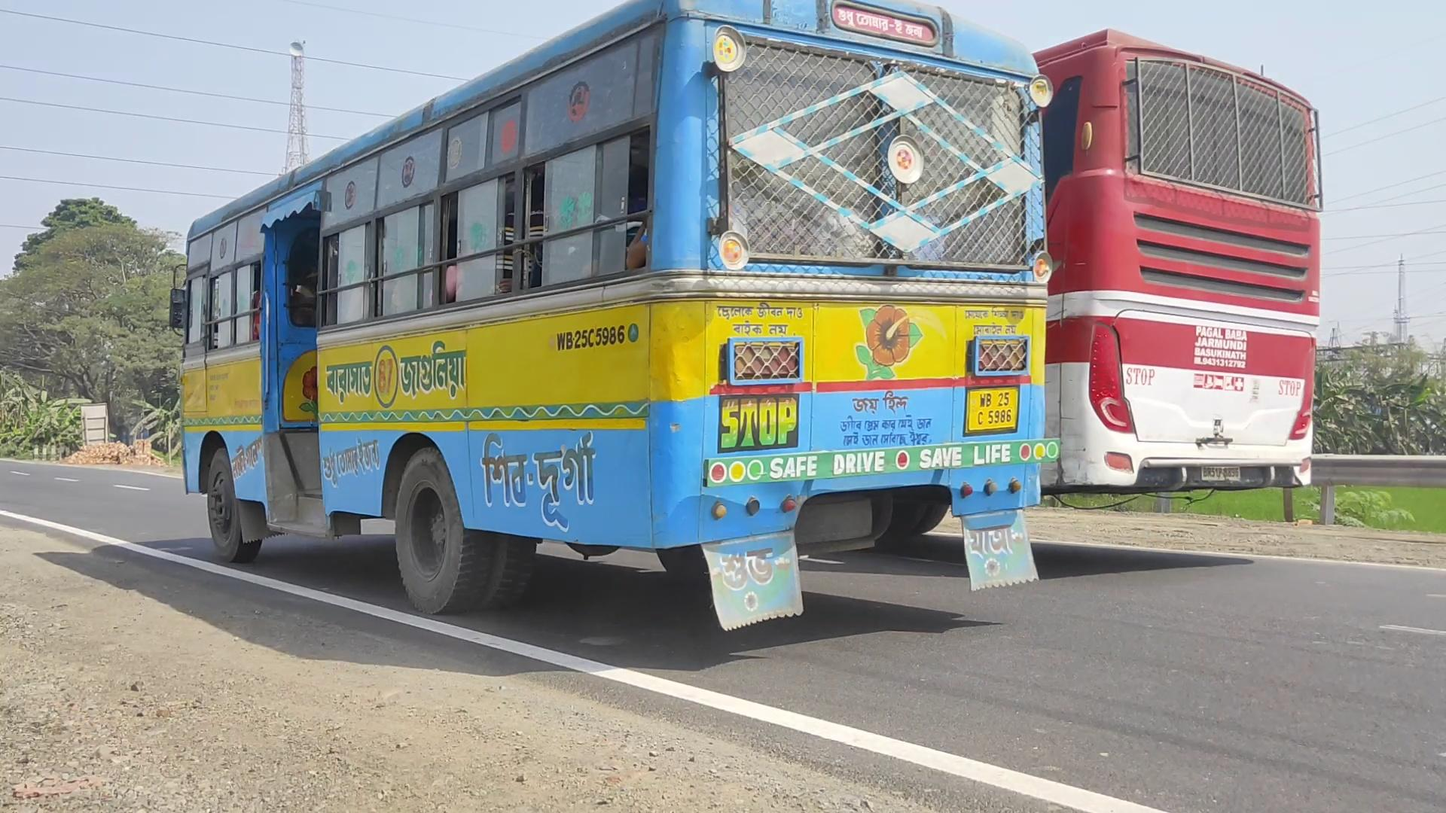Bus: (170, 3, 1054, 623), (1037, 29, 1323, 547)
